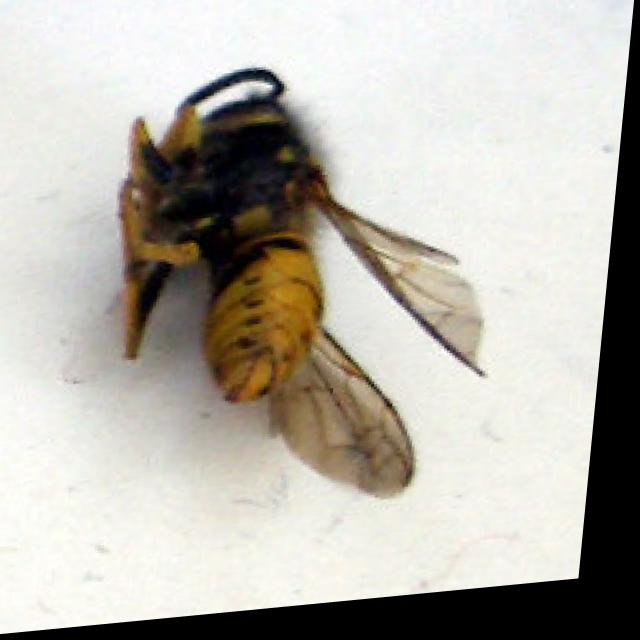Guepe: (58, 44, 553, 545)
